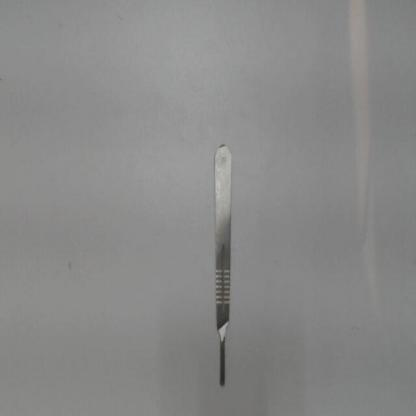No.4 BP Handle: (207, 140, 238, 392)
